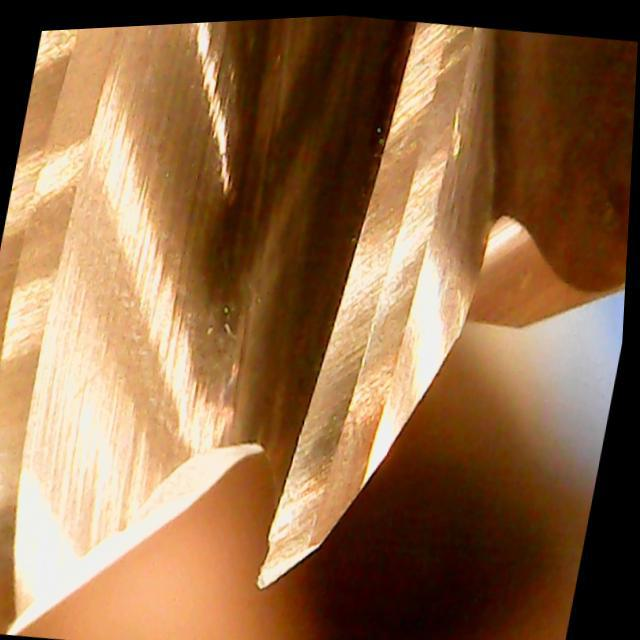Tool-wear-class-0: (240, 246, 460, 612)
